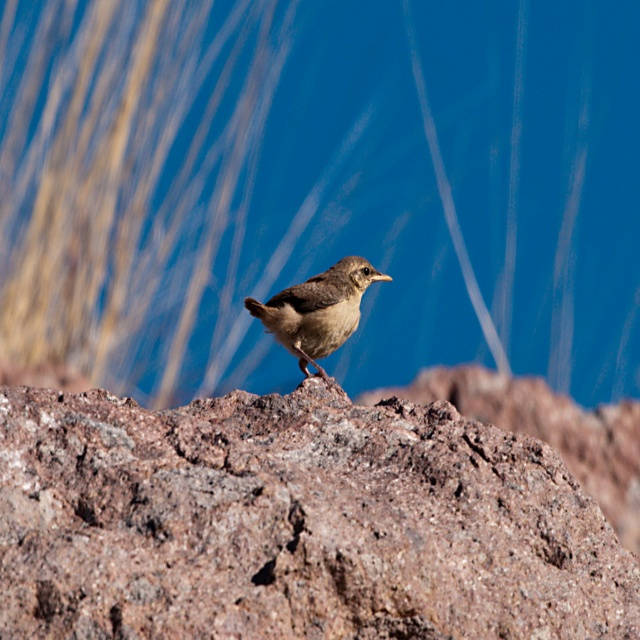Sparrow: (245, 256, 395, 395)
